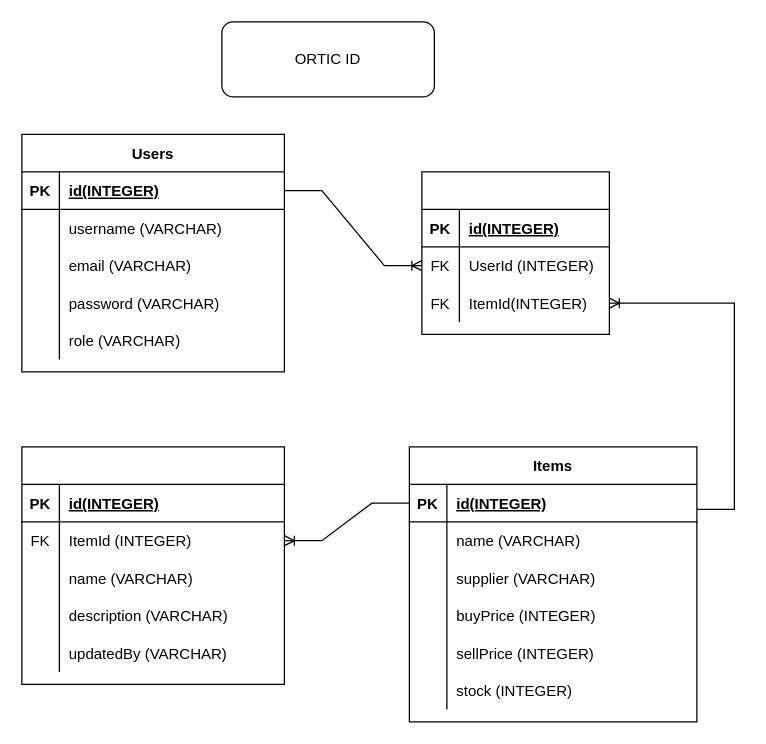
Some shapes in this 766 by 744 pixel diagram are drawn without their labels. The box of each missing label's shape, as (x1, y1, x2, y2) in pixels:
History: (21, 446, 284, 684)
UserItem: (421, 171, 609, 334)
